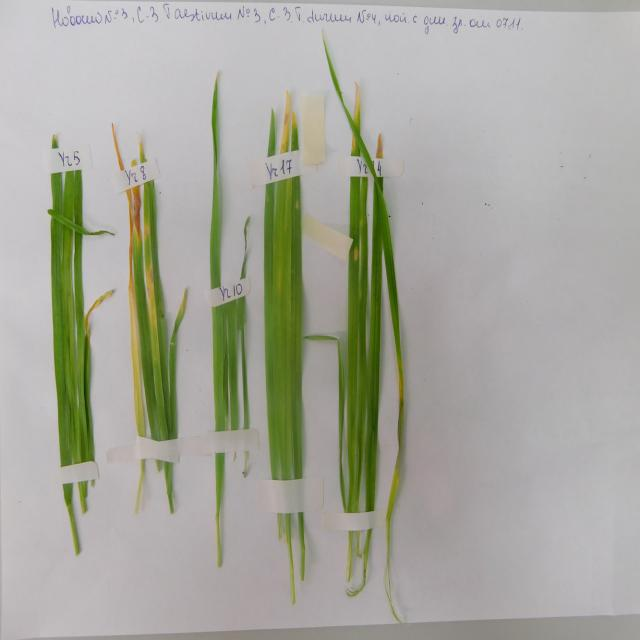wheat-yellowrust: (126, 184, 179, 444), (280, 90, 298, 154)
